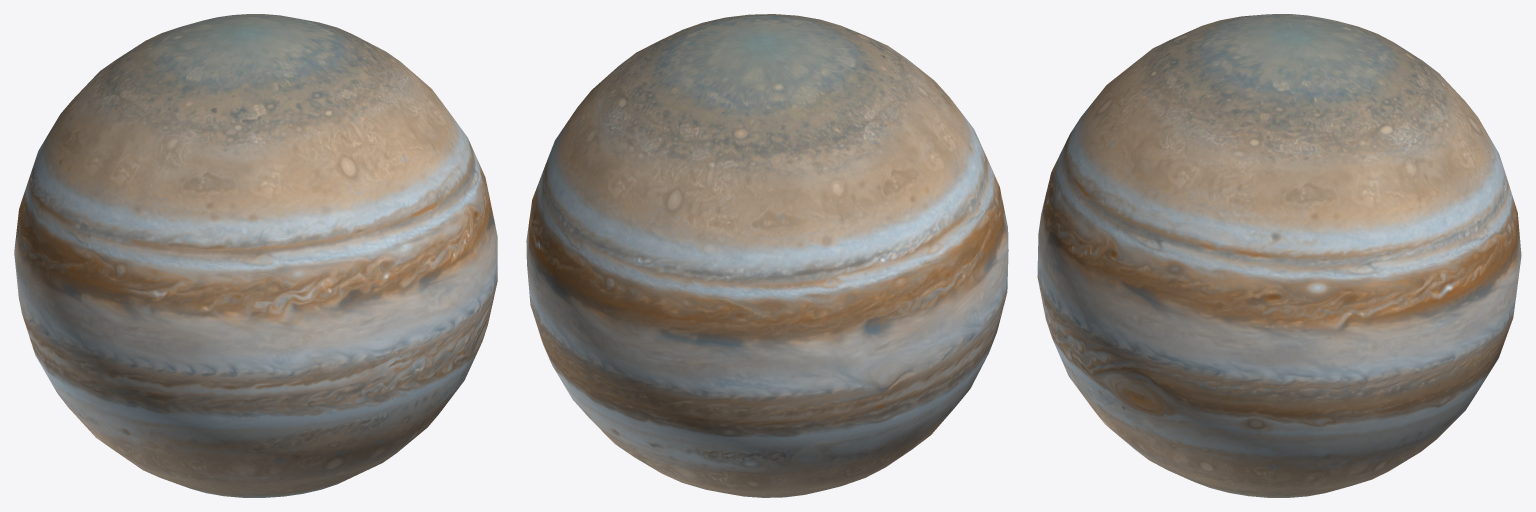
File: Jupiter.fbx
3 renders of one model, left to right at view 1: azimuth 30°, elevation 25°; view 2: azimuth 150°, elevation 25°; view 3: azimuth 270°, elevation 25°, orthographic.
Parts seen in each view (by area): view 1: Jupiter; view 2: Jupiter; view 3: Jupiter.
Boxes of the visible parts, x1,y1,x2,y2 form: Jupiter: (14, 14, 497, 497); Jupiter: (526, 14, 1008, 497); Jupiter: (1037, 14, 1521, 497).
Bounding box in the file's own units: 63.53 × 63.58 × 63.5.
